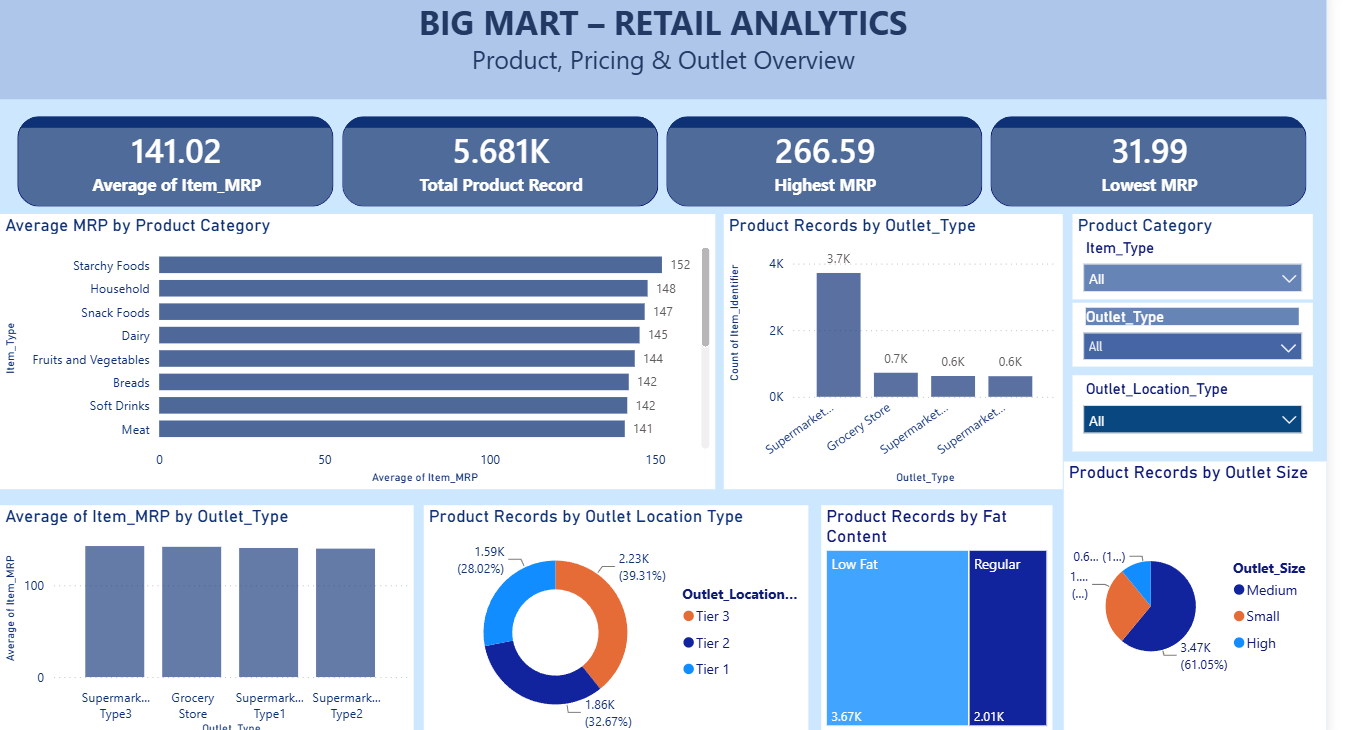

Layout of this report page (visuals, bound fields, positions):
{"tool":"powerbi","page":{"name":"Dashboard ","canvas":[1280,720],"ordinal":0},"visuals":[{"type":"textbox","box":[0,0,1280.3,101.5],"z":0},{"type":"cardVisual","fields":{"Data":["Avg(Big_Mart_Cleaned.Item_MRP)","CountNonNull(Big_Mart_Cleaned.Item_Identifier)","Max(Big_Mart_Cleaned.Item_MRP)","Min(Big_Mart_Cleaned.Item_MRP)"]},"box":[0,101.3,1280,121.9],"z":1000},{"type":"clusteredBarChart","title":"Average MRP by Product Category","fields":{"Category":["Big_Mart_Cleaned.Item_Type"],"Y":["Avg(Big_Mart_Cleaned.Item_MRP)"]},"box":[0,212.3,690.1,265.4],"z":2000},{"type":"clusteredColumnChart","title":"Product Records by Outlet_Type","fields":{"Category":["Big_Mart_Cleaned.Outlet_Type"],"Y":["CountNonNull(Big_Mart_Cleaned.Item_Identifier)"]},"box":[698.5,212.3,326.9,265.4],"z":3000},{"type":"clusteredColumnChart","fields":{"Category":["Big_Mart_Cleaned.Outlet_Type"],"Y":["Avg(Big_Mart_Cleaned.Item_MRP)"]},"box":[0,493.4,399.3,226.8],"z":4000},{"type":"slicer","title":"Product Category","fields":{"Values":["Big_Mart_Cleaned.Item_Type"]},"box":[1035.1,212.3,231.6,82],"z":5000},{"type":"slicer","fields":{"Values":["Big_Mart_Cleaned.Outlet_Type"]},"box":[1035.1,298,231.6,61.5],"z":6000},{"type":"slicer","fields":{"Values":["Big_Mart_Cleaned.Outlet_Location_Type"]},"box":[1035.1,368,231.6,73.6],"z":7000},{"type":"donutChart","title":"Product Records by Outlet Location Type","fields":{"Category":["Big_Mart_Cleaned.Outlet_Location_Type"],"Y":["CountNonNull(Big_Mart_Cleaned.Item_Identifier)"]},"box":[409,493.4,371.6,226.8],"z":8000},{"type":"treemap","title":"Product Records by Fat Content","fields":{"Group":["Big_Mart_Cleaned.Item_Fat_Content"],"Values":["CountNonNull(Big_Mart_Cleaned.Item_Identifier)"]},"box":[792.6,493.4,223.2,218.4],"z":9000},{"type":"pieChart","title":"Product Records by Outlet Size ","fields":{"Category":["Big_Mart_Cleaned.Outlet_Size"],"Y":["CountNonNull(Big_Mart_Cleaned.Item_Identifier)"]},"box":[1026.7,451.2,253.4,260.6],"z":10000}]}

Visuals, with their boxes on the page's 1280x720 design canvas (x1, y1, x2, y2). These are canvas units, not pixel positions in the 1356x730 screenshot, which may show the page scaled, cropped or inside an application window:
textbox: left=0, top=0, right=1280, bottom=102
cardVisual - Avg(Big_Mart_Cleaned.Item_MRP) x CountNonNull(Big_Mart_Cleaned.Item_Identifier): left=0, top=101, right=1280, bottom=223
"Average MRP by Product Category" clusteredBarChart: left=0, top=212, right=690, bottom=478
"Product Records by Outlet_Type" clusteredColumnChart: left=698, top=212, right=1025, bottom=478
clusteredColumnChart - Big_Mart_Cleaned.Outlet_Type x Avg(Big_Mart_Cleaned.Item_MRP): left=0, top=493, right=399, bottom=720
"Product Category" slicer: left=1035, top=212, right=1267, bottom=294
slicer - Big_Mart_Cleaned.Outlet_Type: left=1035, top=298, right=1267, bottom=360
slicer - Big_Mart_Cleaned.Outlet_Location_Type: left=1035, top=368, right=1267, bottom=442
"Product Records by Outlet Location Type" donutChart: left=409, top=493, right=781, bottom=720
"Product Records by Fat Content" treemap: left=793, top=493, right=1016, bottom=712
"Product Records by Outlet Size " pieChart: left=1027, top=451, right=1280, bottom=712
